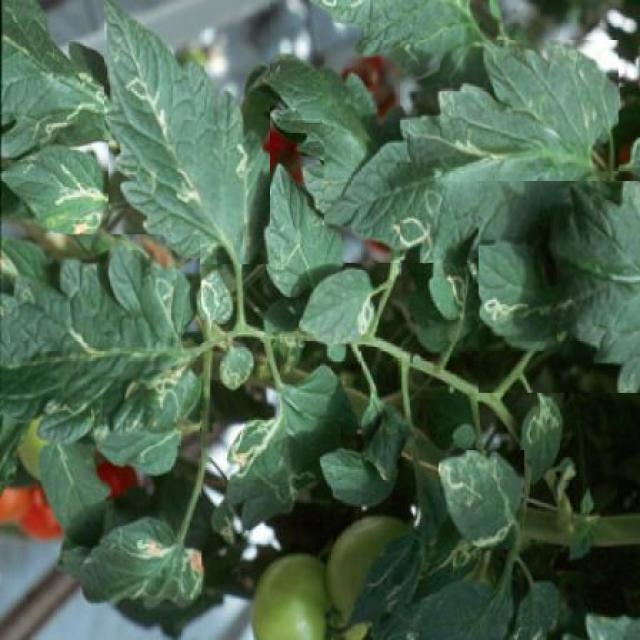Leaf Miner: (325, 40, 619, 263), (105, 0, 270, 264), (0, 234, 200, 446), (478, 180, 640, 393), (0, 141, 109, 235), (439, 450, 524, 550), (298, 269, 378, 347)
